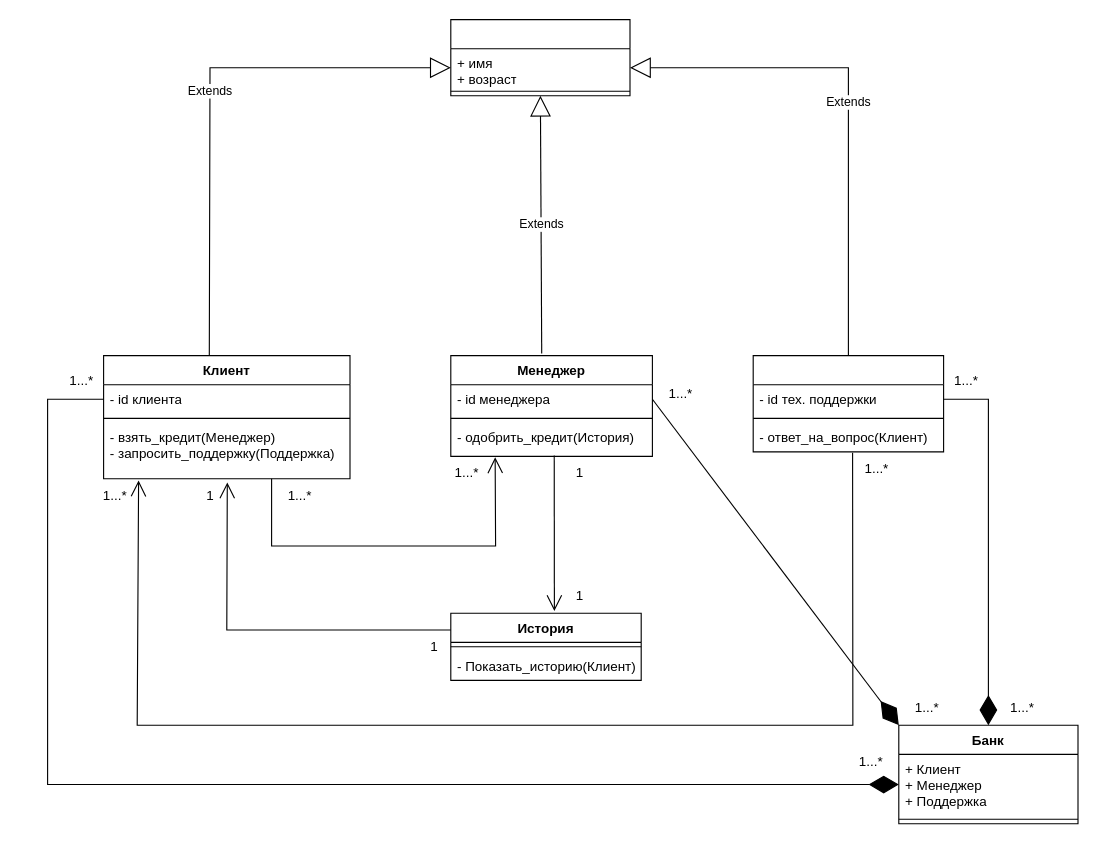
Some shapes in this 1098 by 843 pixel diagram are drawn without their labels. The box of each missing label's shape, as (x1, y1, x2, y2) in pixels:
Поддержка: (752, 354, 944, 452)
Человек: (450, 18, 630, 96)
